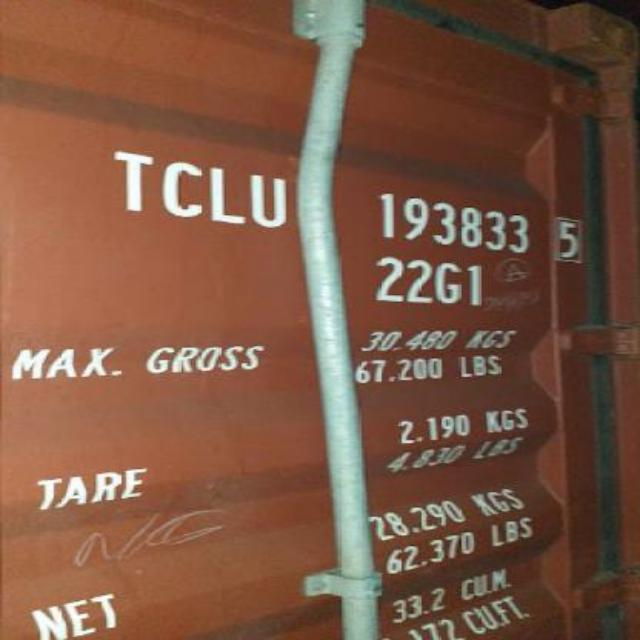1: (372, 188, 404, 238)
3: (432, 196, 462, 244), (482, 207, 510, 251), (510, 212, 536, 252)
5: (554, 217, 584, 260)
8: (460, 204, 484, 246)
9: (402, 194, 430, 242)
C: (162, 153, 208, 219)
L: (204, 163, 252, 224)
T: (104, 147, 158, 216)
U: (246, 171, 294, 229)
